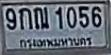0: (66, 6, 76, 28)
1: (54, 6, 62, 28)
5: (78, 6, 88, 27)
6: (91, 5, 101, 26)
9: (5, 7, 16, 29)
A01: (18, 7, 32, 29)
A19: (33, 6, 48, 29)
BKK: (15, 34, 94, 49)
